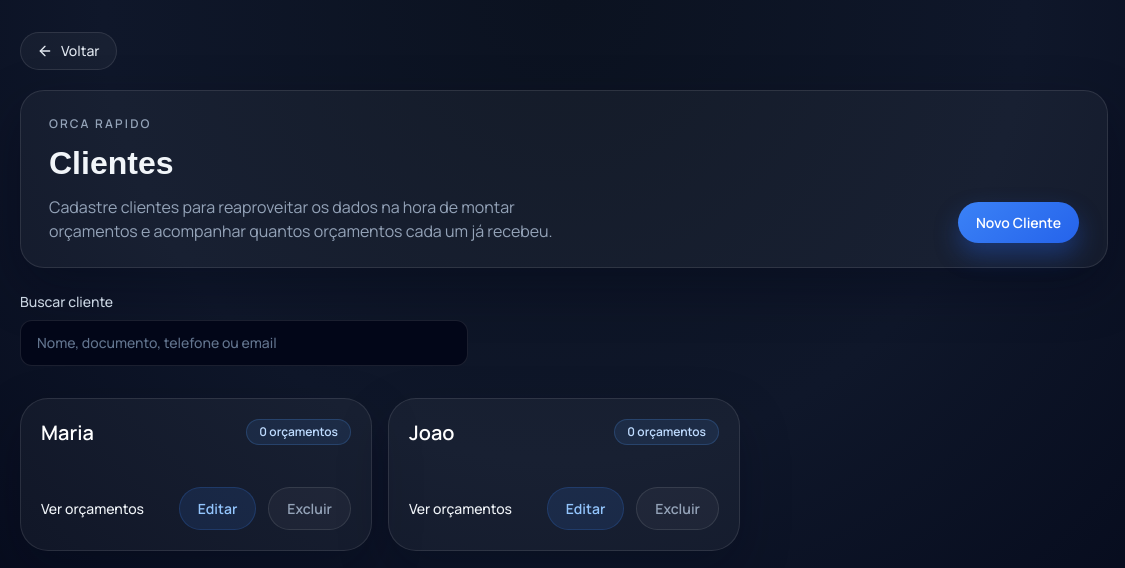
Test case: ClientsPage › filters clients by search term
In the field labelled "Buscar cliente": (244, 343) [20,320,468,366], type "Joao"
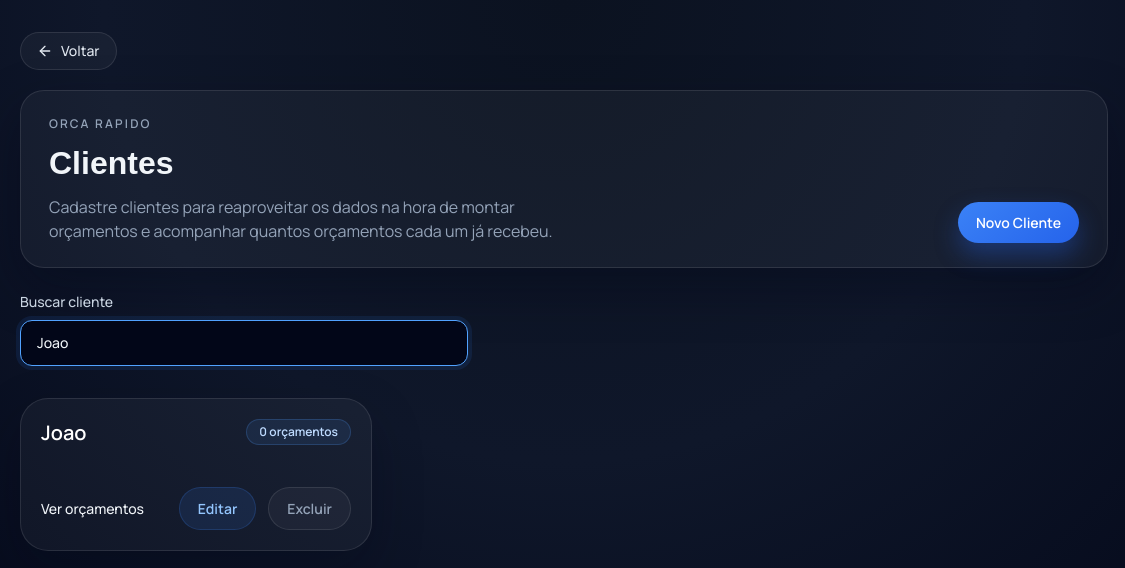
Expected: the heading "Joao" is shown, [41,419,86,447]
Expected: the heading "Maria" is gone
